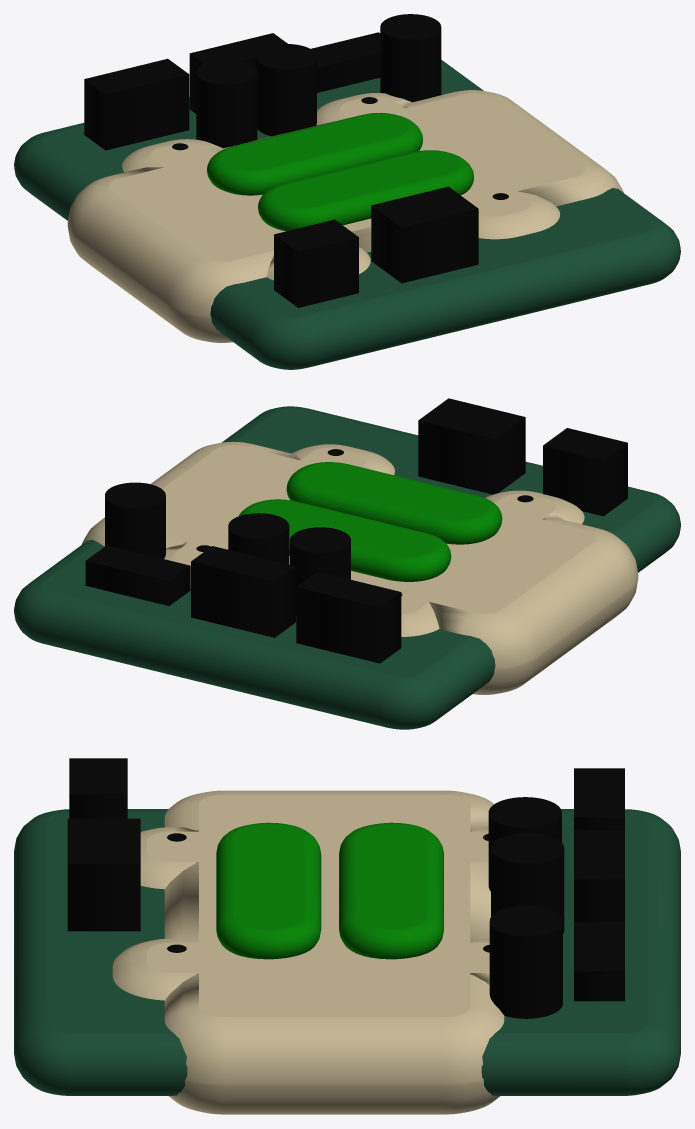
The picture shows the model from 3 angles, top to bottom: view 1: azimuth 30°, elevation 25°; view 2: azimuth 150°, elevation 25°; view 3: azimuth 270°, elevation 25°; orthographic projection. The views are drawn at different scales.
Parts seen in each view (by area): view 1: rect56; view 2: rect56; view 3: rect56.
Boxes of the visible parts, x1=… form: rect56: x1=14, y1=14, x2=680, y2=369; rect56: x1=14, y1=398, x2=680, y2=729; rect56: x1=14, y1=758, x2=680, y2=1114.
Bounding box in the file's own units: 23.18 × 6.65 × 24.73.
